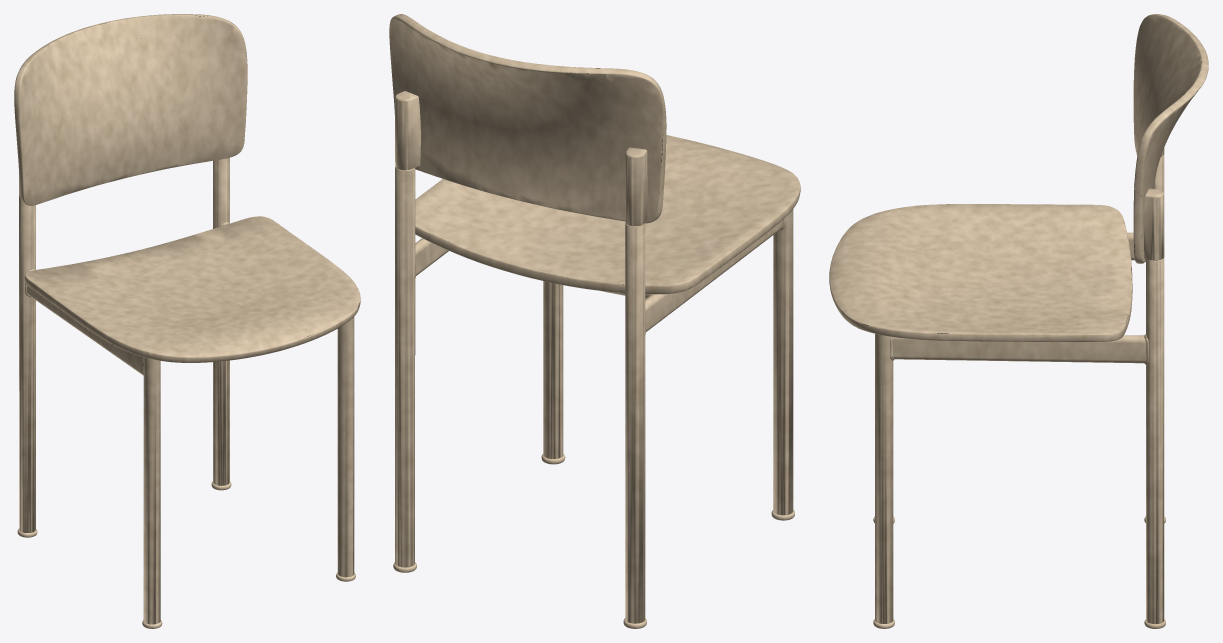
Rendered from plan-chair-4k-baked.glb.
3 views of the same model, side by side, from view 1: azimuth 30°, elevation 25°; view 2: azimuth 150°, elevation 25°; view 3: azimuth 270°, elevation 25° (orthographic). The views are drawn at different scales.
Visible parts, largest first — view 1: plan-chair-4k-baked-mesh; view 2: plan-chair-4k-baked-mesh; view 3: plan-chair-4k-baked-mesh.
Boxes of the visible parts, <box> form: plan-chair-4k-baked-mesh: <box>14,14,360,628</box>; plan-chair-4k-baked-mesh: <box>389,14,800,628</box>; plan-chair-4k-baked-mesh: <box>829,14,1208,628</box>.
Size of the model in its own units: 0.4195 by 0.7665 by 0.5152.
1 material, 1 textured.
